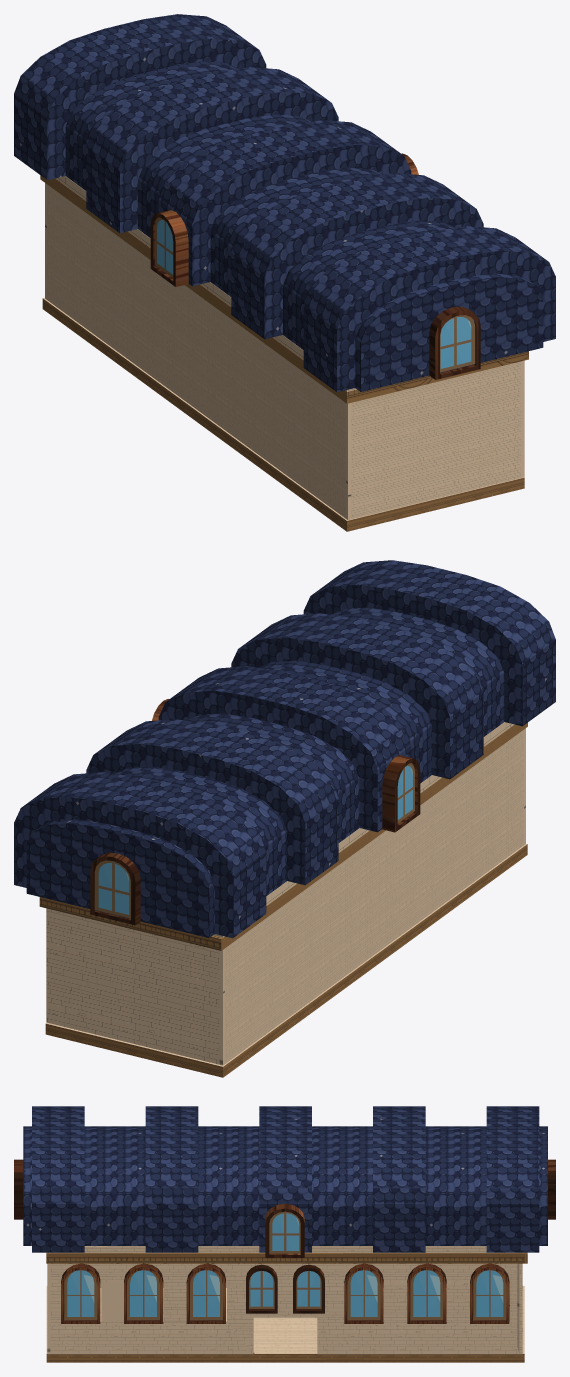
File: SalaEgipcia.obj
3 views of the same model, one above another, from view 1: azimuth 30°, elevation 25°; view 2: azimuth 150°, elevation 25°; view 3: azimuth 270°, elevation 25° (orthographic). The views are drawn at different scales.
Parts seen in each view (by area): view 1: marcovent2.003; view 2: marcovent2.003; view 3: marcovent2.003.
Part boxes in pixels (<box>): marcovent2.003: <box>14,14,555,531</box>; marcovent2.003: <box>14,560,555,1077</box>; marcovent2.003: <box>14,1106,555,1362</box>.
Size of the model in its own units: 14.1 by 14.11 by 34.48.
5 materials, 5 textured.
